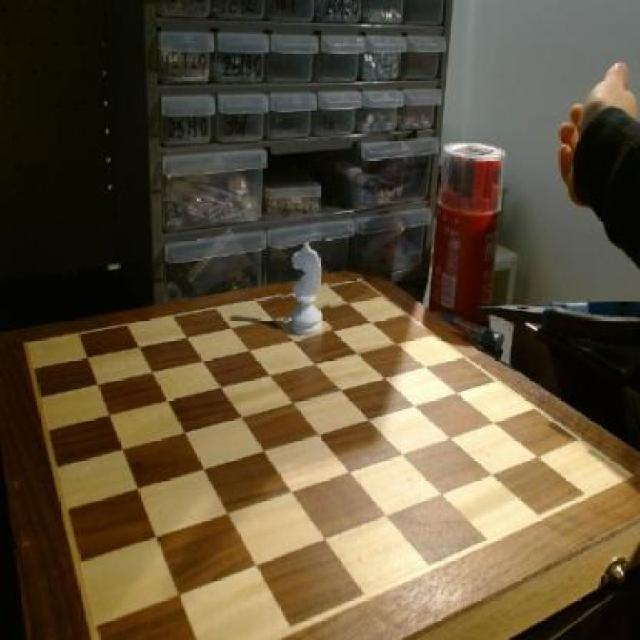white-king: (282, 238, 332, 341)
